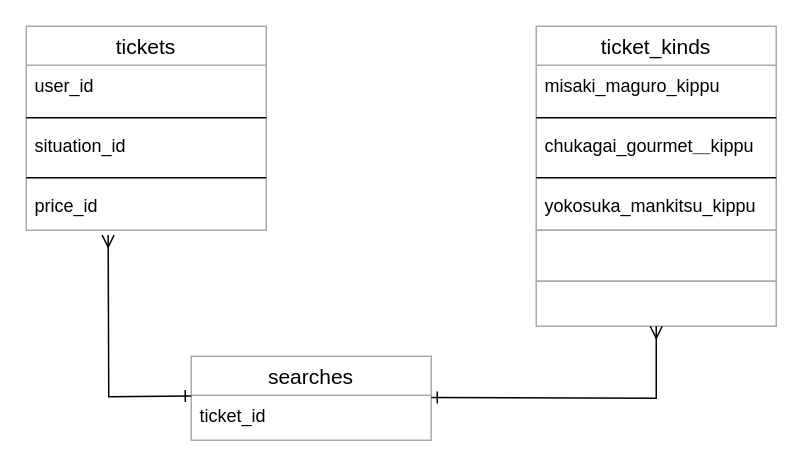
Image size: 803x471. Some labels were removed from this diagram. Here are the shapes that lost their labels. From the top down, the centre of each, then its label:
At (x=655, y=255): "chichibu_manyu_kippu".
At (x=655, y=303): "tobu_world_square_coupon".
